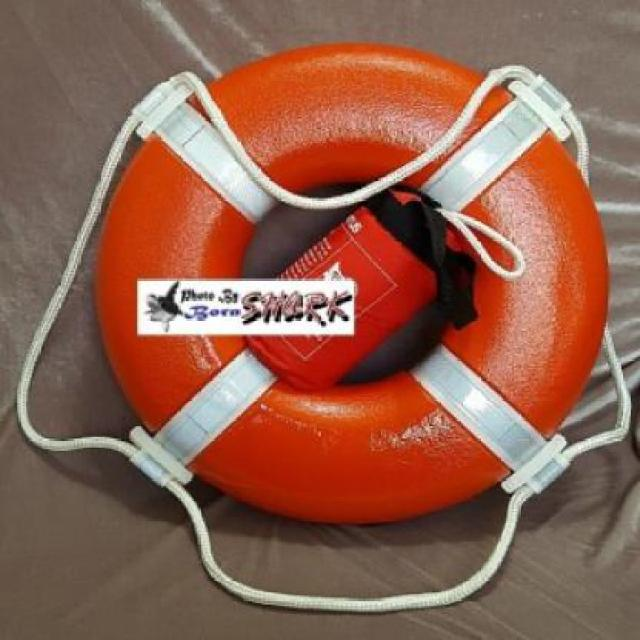a: (10, 45, 635, 619)
